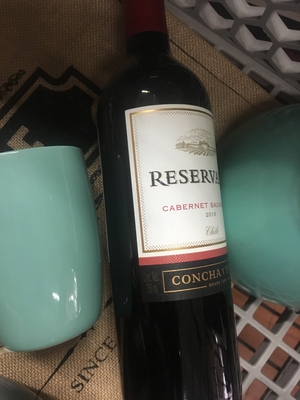reservado cabernet sauvignon: (94, 8, 247, 400)
